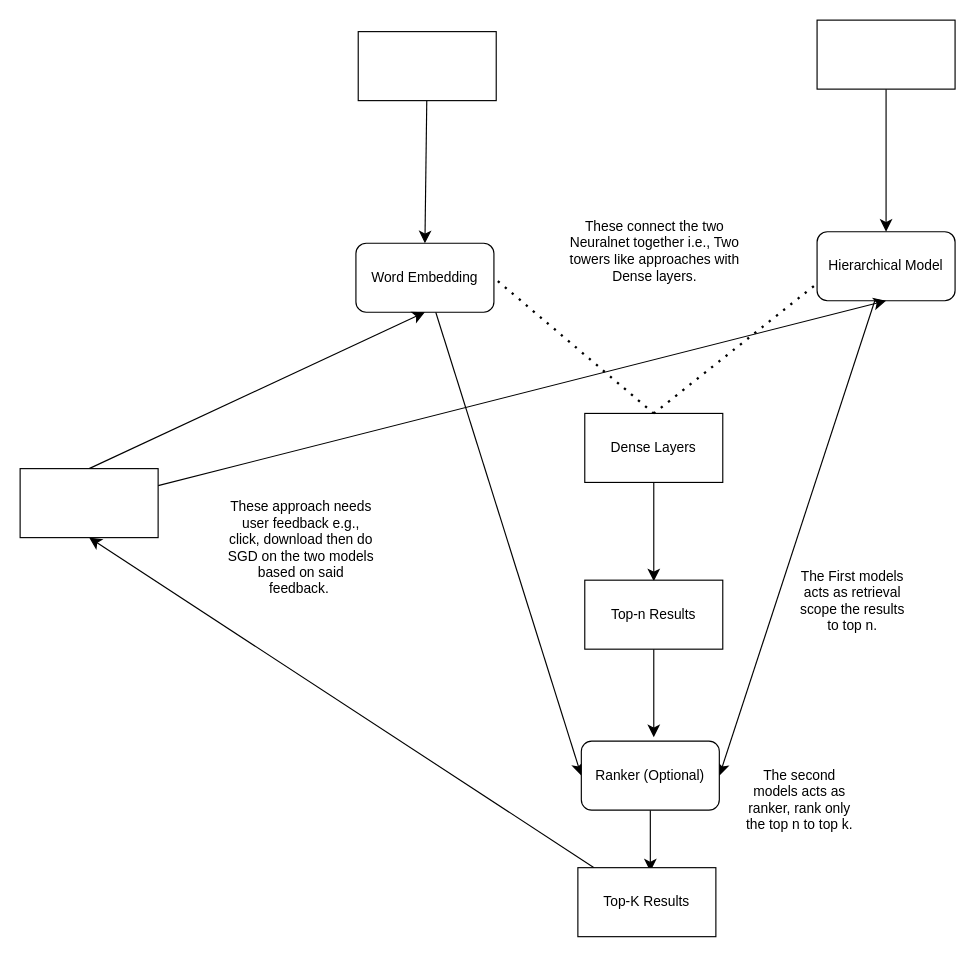
The diagram is 975 pixels wide and 957 high, and some of its shapes have lost their labels. The shapes that lost their labels are listed below. From the top down, each one's centre as x and y in pixels, then its label:
the point at 426,65: Query
the point at 885,54: Raw Image
the point at 88,502: Feedback
